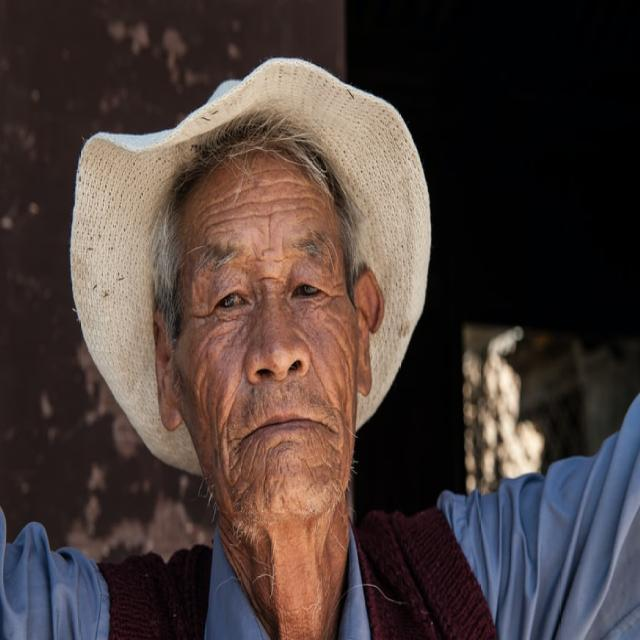Wrinkles: (326, 327, 351, 389), (204, 214, 269, 232), (232, 440, 254, 487), (234, 181, 304, 193), (244, 196, 325, 204), (203, 193, 234, 210), (212, 176, 240, 193), (204, 207, 232, 221), (240, 168, 284, 176), (250, 442, 259, 475), (348, 338, 355, 359), (217, 400, 220, 443), (316, 430, 323, 445), (198, 193, 212, 200), (330, 316, 339, 322), (266, 448, 271, 457), (264, 475, 266, 491), (339, 322, 344, 328), (265, 457, 267, 472), (270, 240, 272, 250), (323, 447, 328, 451), (269, 219, 270, 228)
